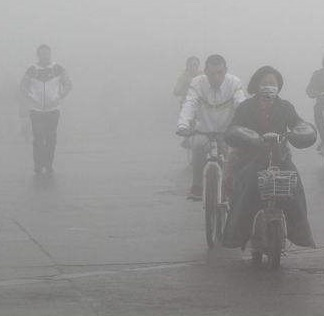person: (224, 62, 320, 265), (177, 52, 249, 253), (19, 42, 73, 177), (173, 52, 207, 98)
